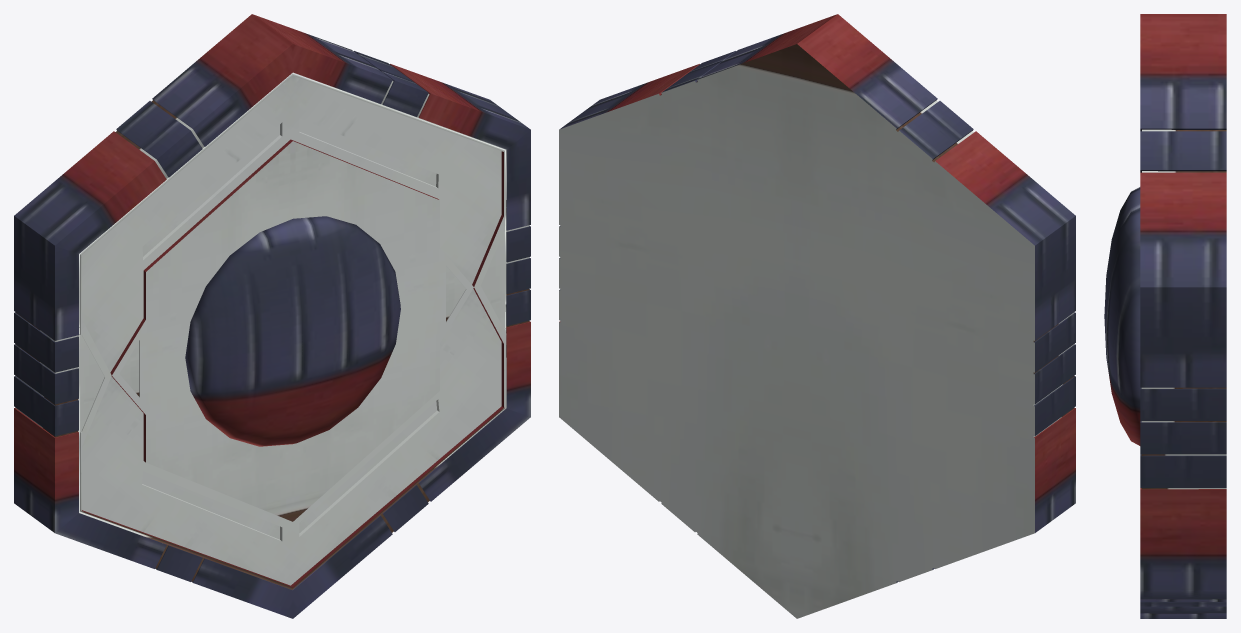
File: signbook-button01-art.glb
3 renders of one model, left to right at view 1: azimuth 30°, elevation 25°; view 2: azimuth 150°, elevation 25°; view 3: azimuth 270°, elevation 25°, orthographic. The views are drawn at different scales.
Visible parts, largest first — view 1: SignbookButton01_Art; view 2: SignbookButton01_Art; view 3: SignbookButton01_Art.
Part boxes in pixels (bbox=[...]): SignbookButton01_Art: bbox=[14, 14, 530, 618]; SignbookButton01_Art: bbox=[559, 14, 1075, 618]; SignbookButton01_Art: bbox=[1104, 14, 1226, 618].
Size of the model in its own units: 0.683 by 0.7886 by 0.1444.
Materials: 1 (1 with a texture image).
